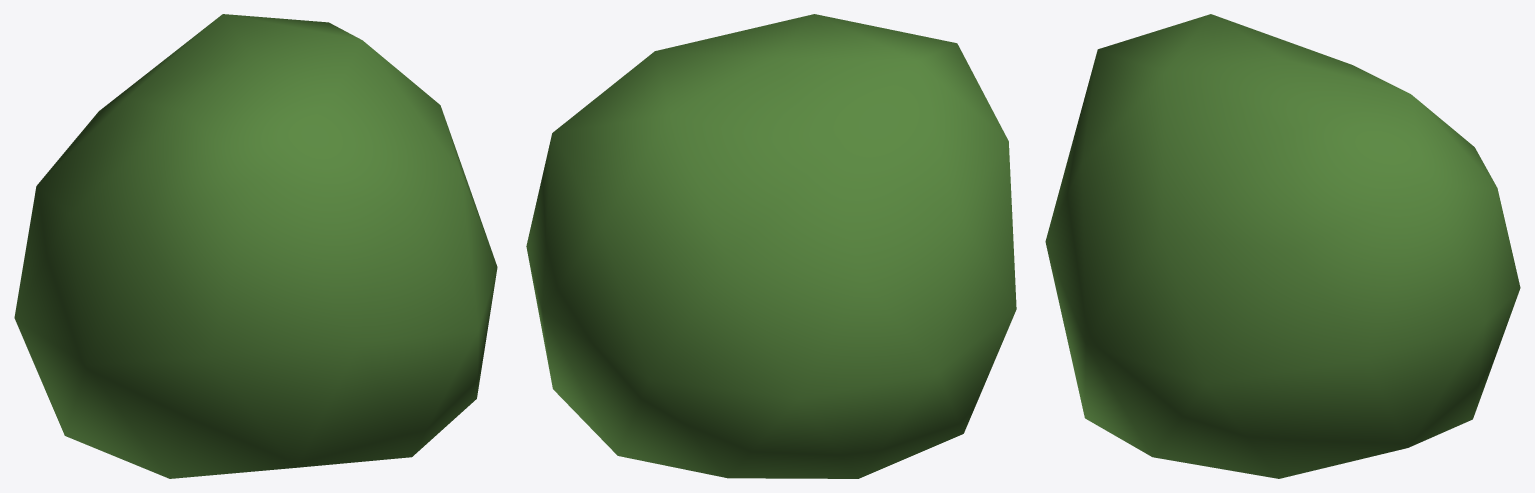
Rendered from Bush2.fbx.
3 views of the same model, side by side, from view 1: azimuth 30°, elevation 25°; view 2: azimuth 150°, elevation 25°; view 3: azimuth 270°, elevation 25° (orthographic). The views are drawn at different scales.
Visible parts, largest first — view 1: bush2; view 2: bush2; view 3: bush2.
Boxes of the visible parts, x1,y1,x2,y2 form: bush2: (14,14,497,478); bush2: (526,14,1016,478); bush2: (1045,14,1520,478).
Bounding box in the file's own units: 0.5886 × 0.4947 × 0.6084.
